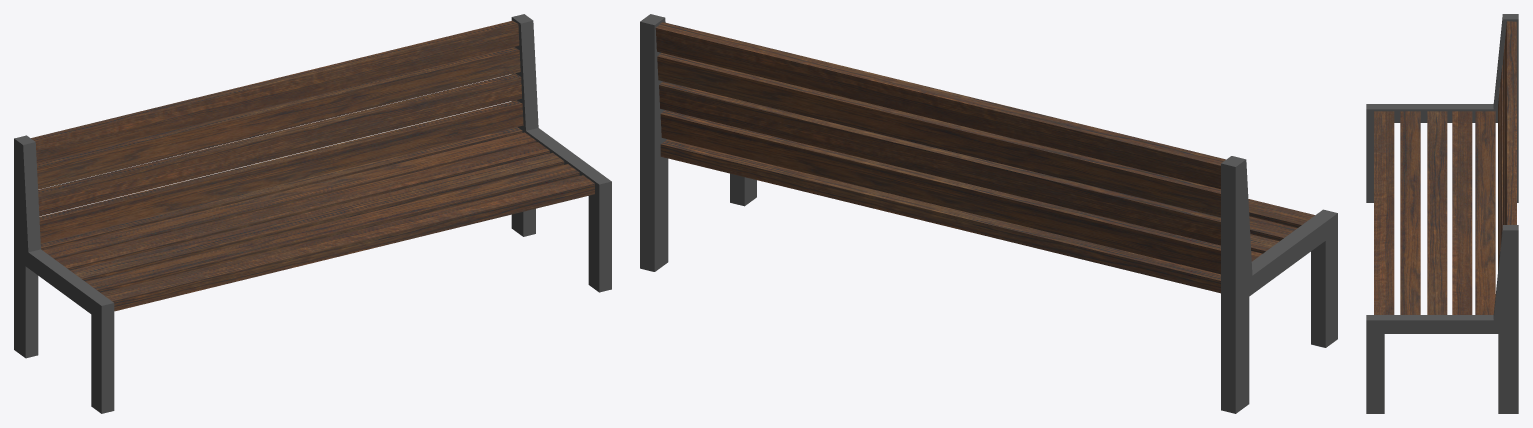
Rendered from bench4.obj.
3 renders of one model, left to right at view 1: azimuth 30°, elevation 25°; view 2: azimuth 150°, elevation 25°; view 3: azimuth 270°, elevation 25°, orthographic. The views are drawn at different scales.
Parts seen in each view (by area): view 1: Box36; view 2: Box36; view 3: Box36.
Boxes of the visible parts, left/top/right/bottom form: Box36: left=14, top=14, right=611, bottom=413; Box36: left=640, top=14, right=1337, bottom=413; Box36: left=1366, top=14, right=1518, bottom=413.
Size of the model in its own units: 202 by 80 by 60.
Materials: 2 (1 with a texture image).
